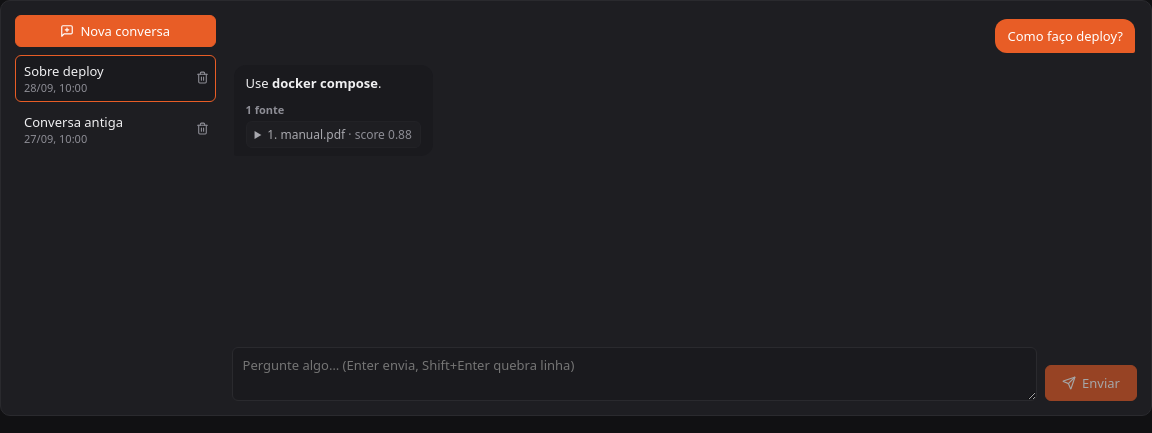
Test: KbChat › resposta em voo não escreve na visão de outra base
Expected: the text "Como faço deploy?" is shown, [996, 19, 1135, 53]
Type "oi" into the text box named "Mensagem".
click(634, 374); type("oi")  # box [232, 347, 1037, 401]
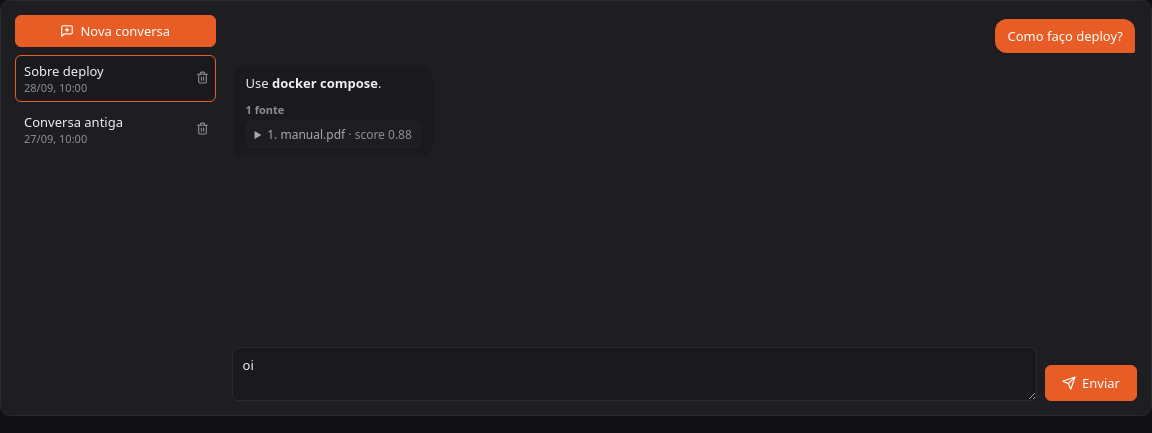
Press Enter in the text box named "Mensagem", box [232, 347, 1037, 401]
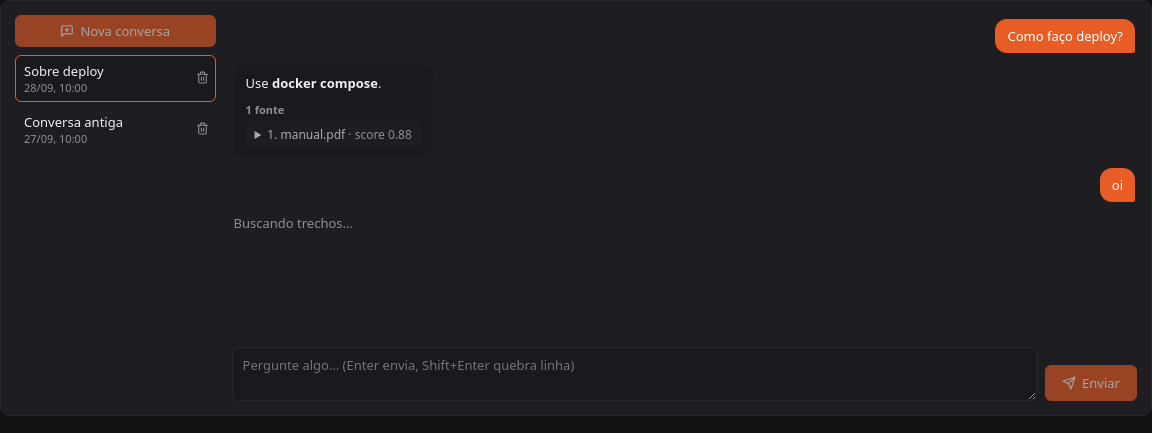
Now the text "Buscando trechos…" is shown, box [234, 214, 353, 232]
